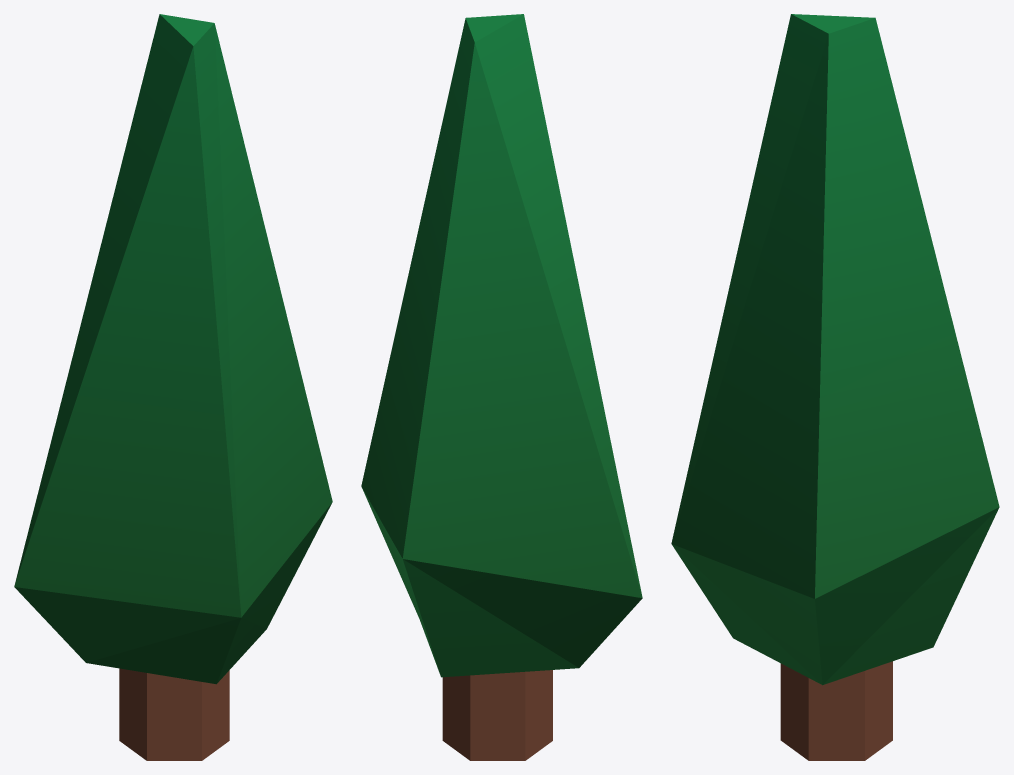
The model's file is Bush_10_gradient_green_vc.fbx.
The picture shows the model from 3 angles, left to right: view 1: azimuth 30°, elevation 25°; view 2: azimuth 150°, elevation 25°; view 3: azimuth 270°, elevation 25°; orthographic projection.
Parts seen in each view (by area): view 1: Bush_10_gradient_green_vc; view 2: Bush_10_gradient_green_vc; view 3: Bush_10_gradient_green_vc.
Part boxes in pixels (box(x1,y1,x2,y2)): Bush_10_gradient_green_vc: box(14, 14, 332, 760); Bush_10_gradient_green_vc: box(361, 14, 642, 760); Bush_10_gradient_green_vc: box(671, 14, 999, 760).
Size of the model in its own units: 38.13 by 86.43 by 35.48.
